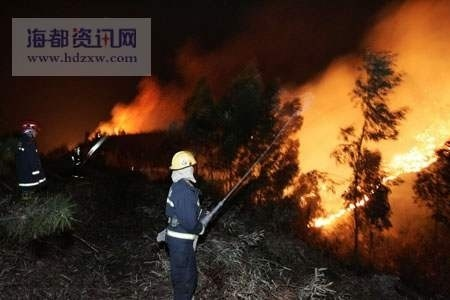fire: (298, 117, 447, 234), (89, 83, 171, 136)
